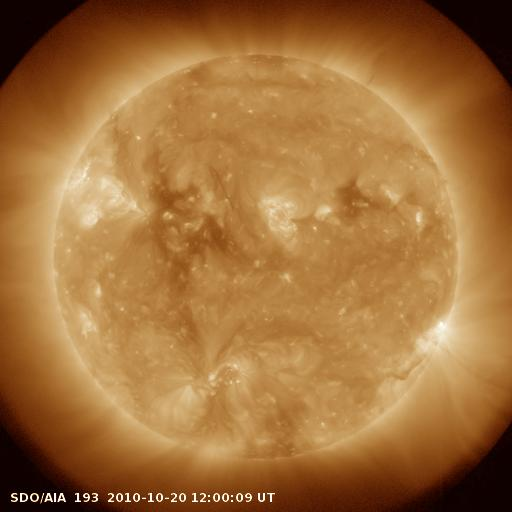coronal_hole: (144, 158, 242, 276), (328, 177, 381, 223)
